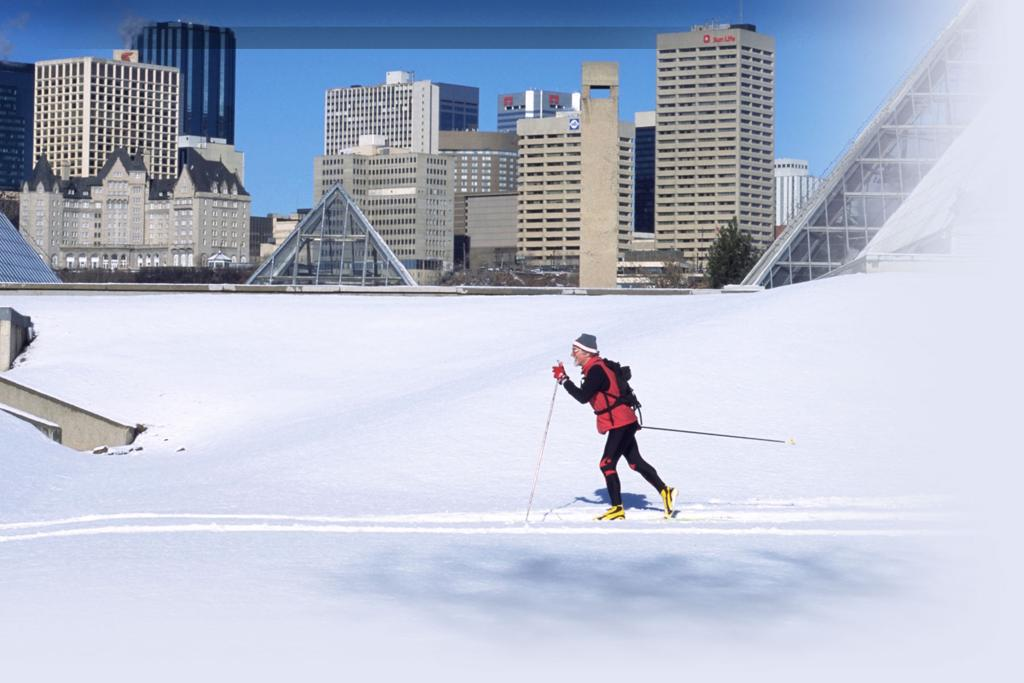face: (571, 346, 586, 367)
